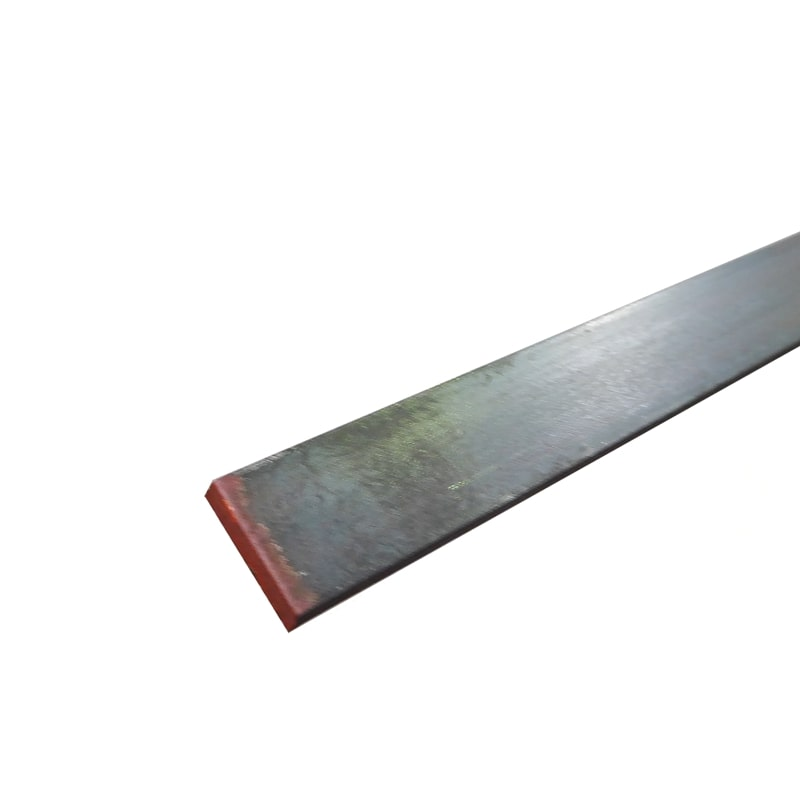metal: (202, 223, 800, 634)
